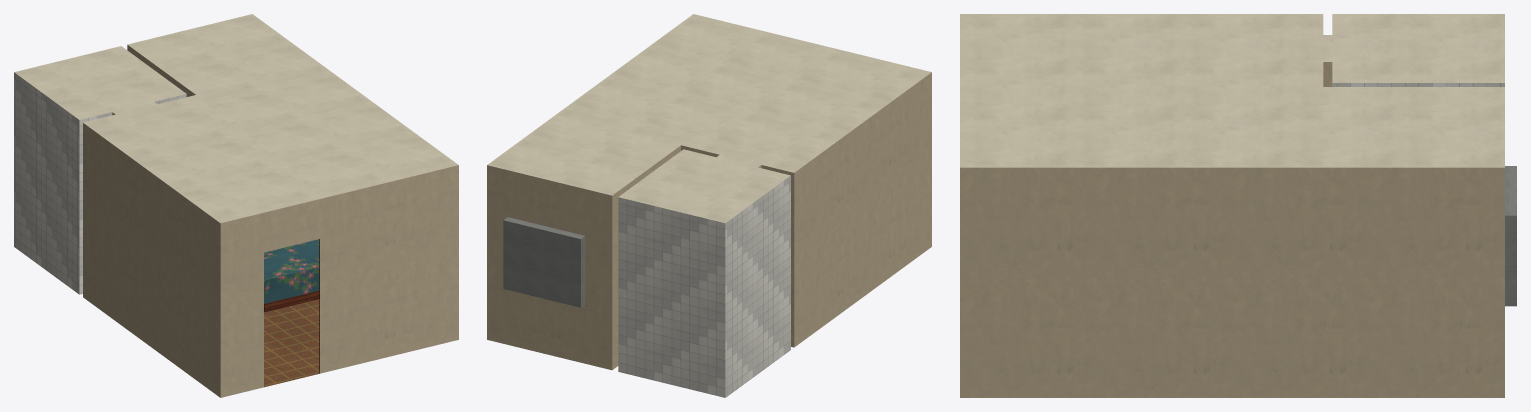
Rendered from motel_a.glb.
3 renders of one model, left to right at view 1: azimuth 30°, elevation 25°; view 2: azimuth 150°, elevation 25°; view 3: azimuth 270°, elevation 25°, orthographic. The views are drawn at different scales.
Visible parts, largest first — view 1: Wall_Room.001, Ceiling_Room.001, Tile_Wall.001, Carpet_Room.001, Bedspread, Wood_Laminate; view 2: Ceiling_Room.001, Wall_Room.001, Tile_Wall.001, Window_Frame; view 3: Wall_Room.001, Ceiling_Room.001, Window_Frame, Tile_Wall.001.
Part boxes in pixels (<box>): Wall_Room.001: <box>83,45,458,397</box>; Ceiling_Room.001: <box>14,14,458,223</box>; Tile_Wall.001: <box>14,72,186,294</box>; Carpet_Room.001: <box>264,299,319,387</box>; Bedspread: <box>264,239,319,303</box>; Wood_Laminate: <box>264,239,319,373</box>; Ceiling_Room.001: <box>487,14,931,223</box>; Wall_Room.001: <box>487,72,931,370</box>; Tile_Wall.001: <box>618,175,790,397</box>; Window_Frame: <box>503,217,585,307</box>; Wall_Room.001: <box>960,62,1504,397</box>; Ceiling_Room.001: <box>960,14,1504,167</box>; Window_Frame: <box>1505,166,1516,306</box>; Tile_Wall.001: <box>1332,83,1504,86</box>.
Bounding box in the file's own units: 4 × 2.8 × 6.13.
25 materials, 16 textured.
